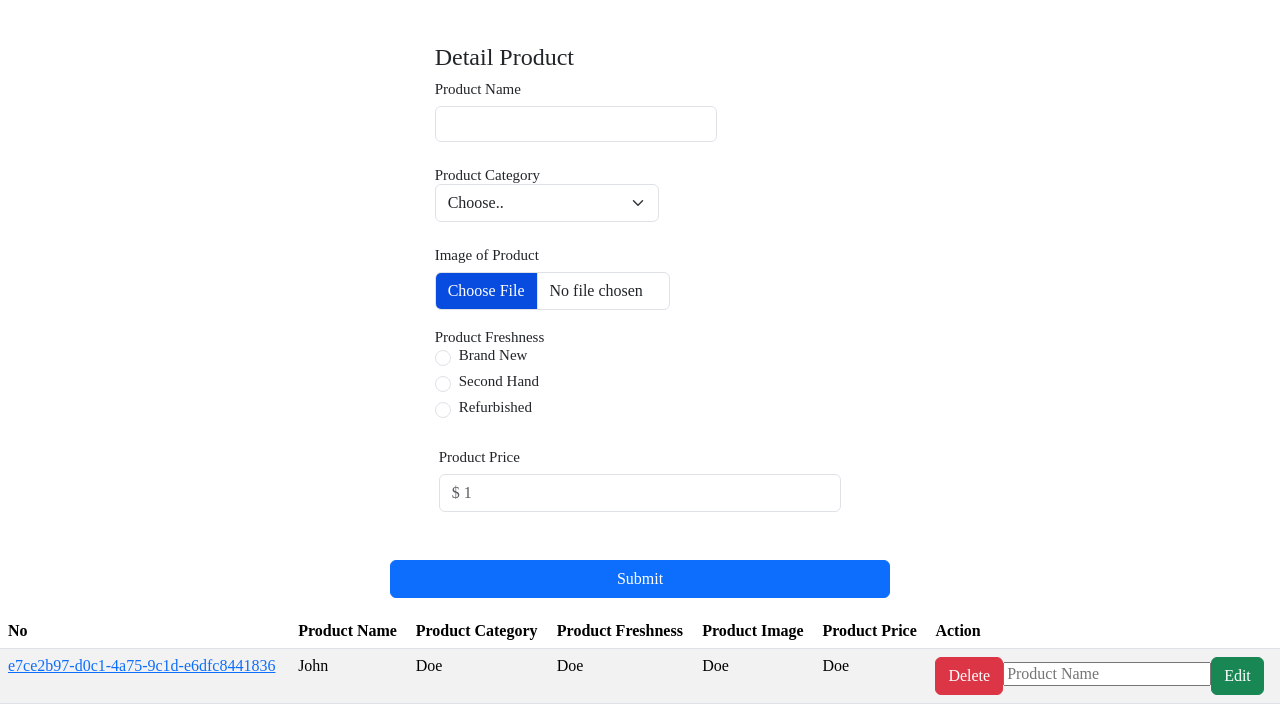
Test case: should show error message when Product Name is empty
(page scrolled)
Click the button "Submit" at {"x": 640, "y": 579}, box [390,560,890,598]
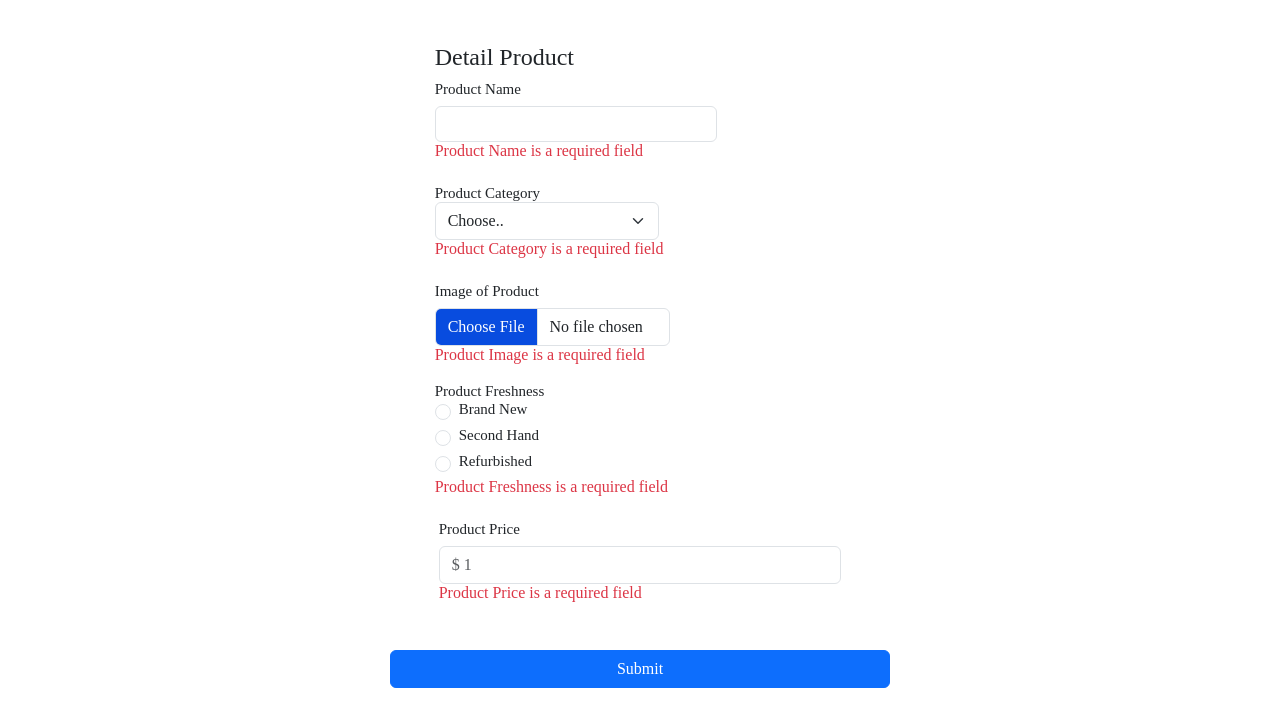
Now the text "Product Name is a required field" is shown, box [435,142,643,159]
